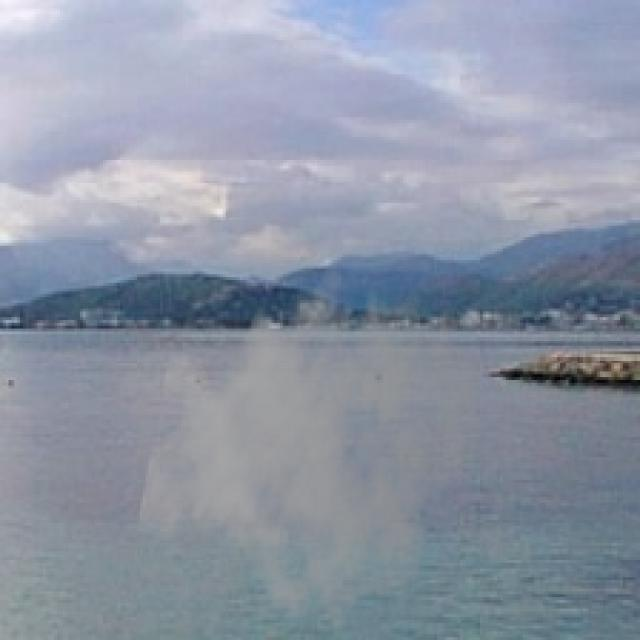Smoke: (134, 245, 494, 638)
